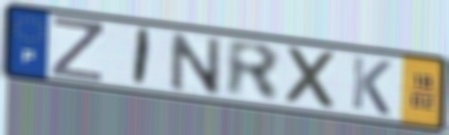I: (129, 26, 155, 89)
K: (349, 53, 394, 118)
N: (167, 29, 223, 97)
R: (225, 37, 283, 105)
X: (285, 44, 342, 113)
Z: (49, 15, 106, 84)
